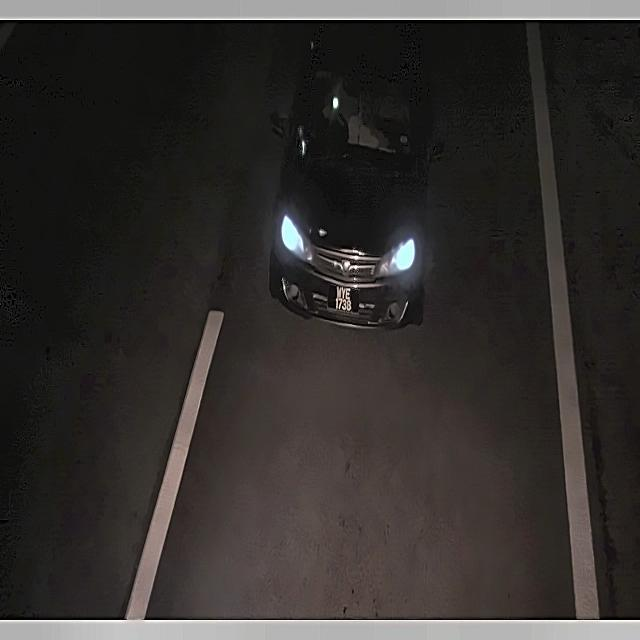car: (327, 280, 358, 319)
